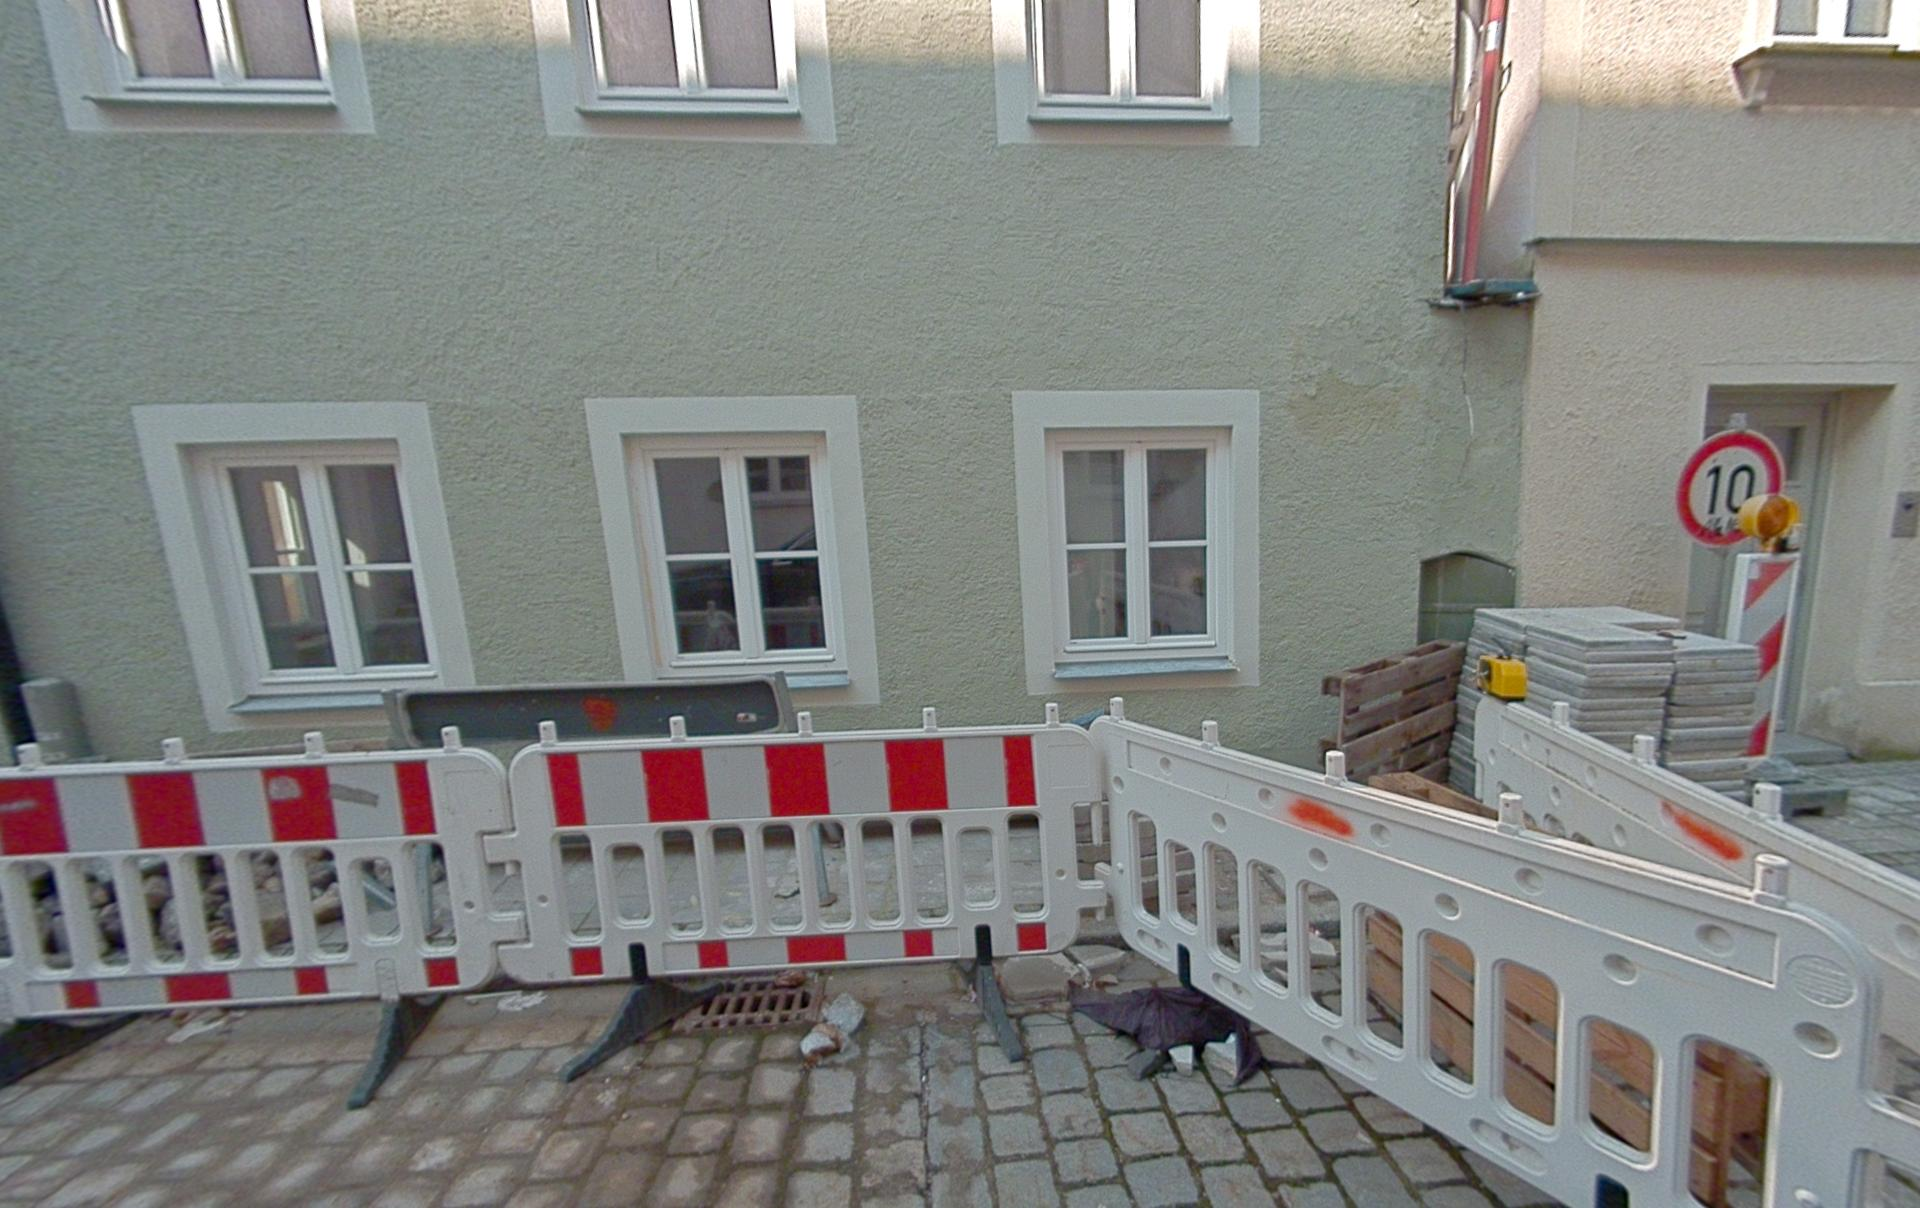traffic sign: (1677, 427, 1786, 548)
